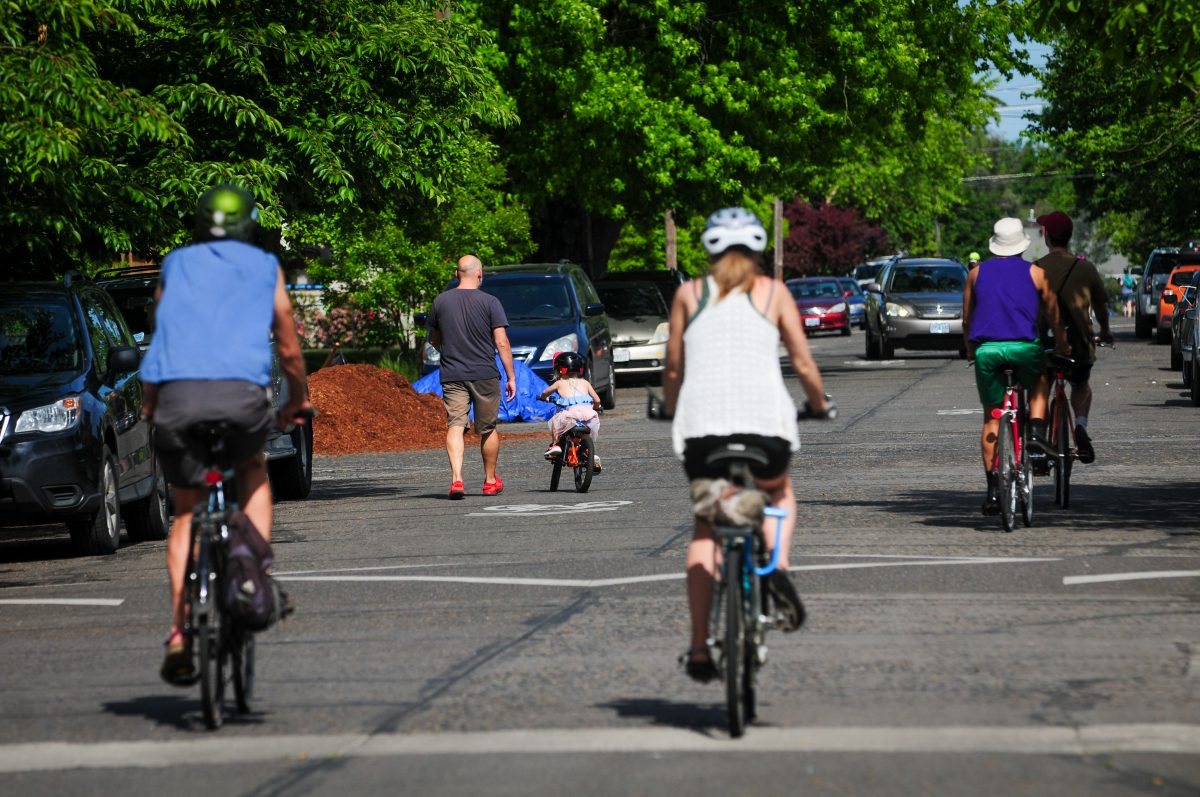car: (1, 278, 173, 548), (473, 260, 628, 409), (857, 255, 987, 363), (785, 276, 858, 333)
person: (124, 175, 329, 731), (652, 198, 840, 750), (956, 212, 1074, 528), (412, 241, 530, 508), (1032, 203, 1117, 469), (529, 345, 617, 496)
